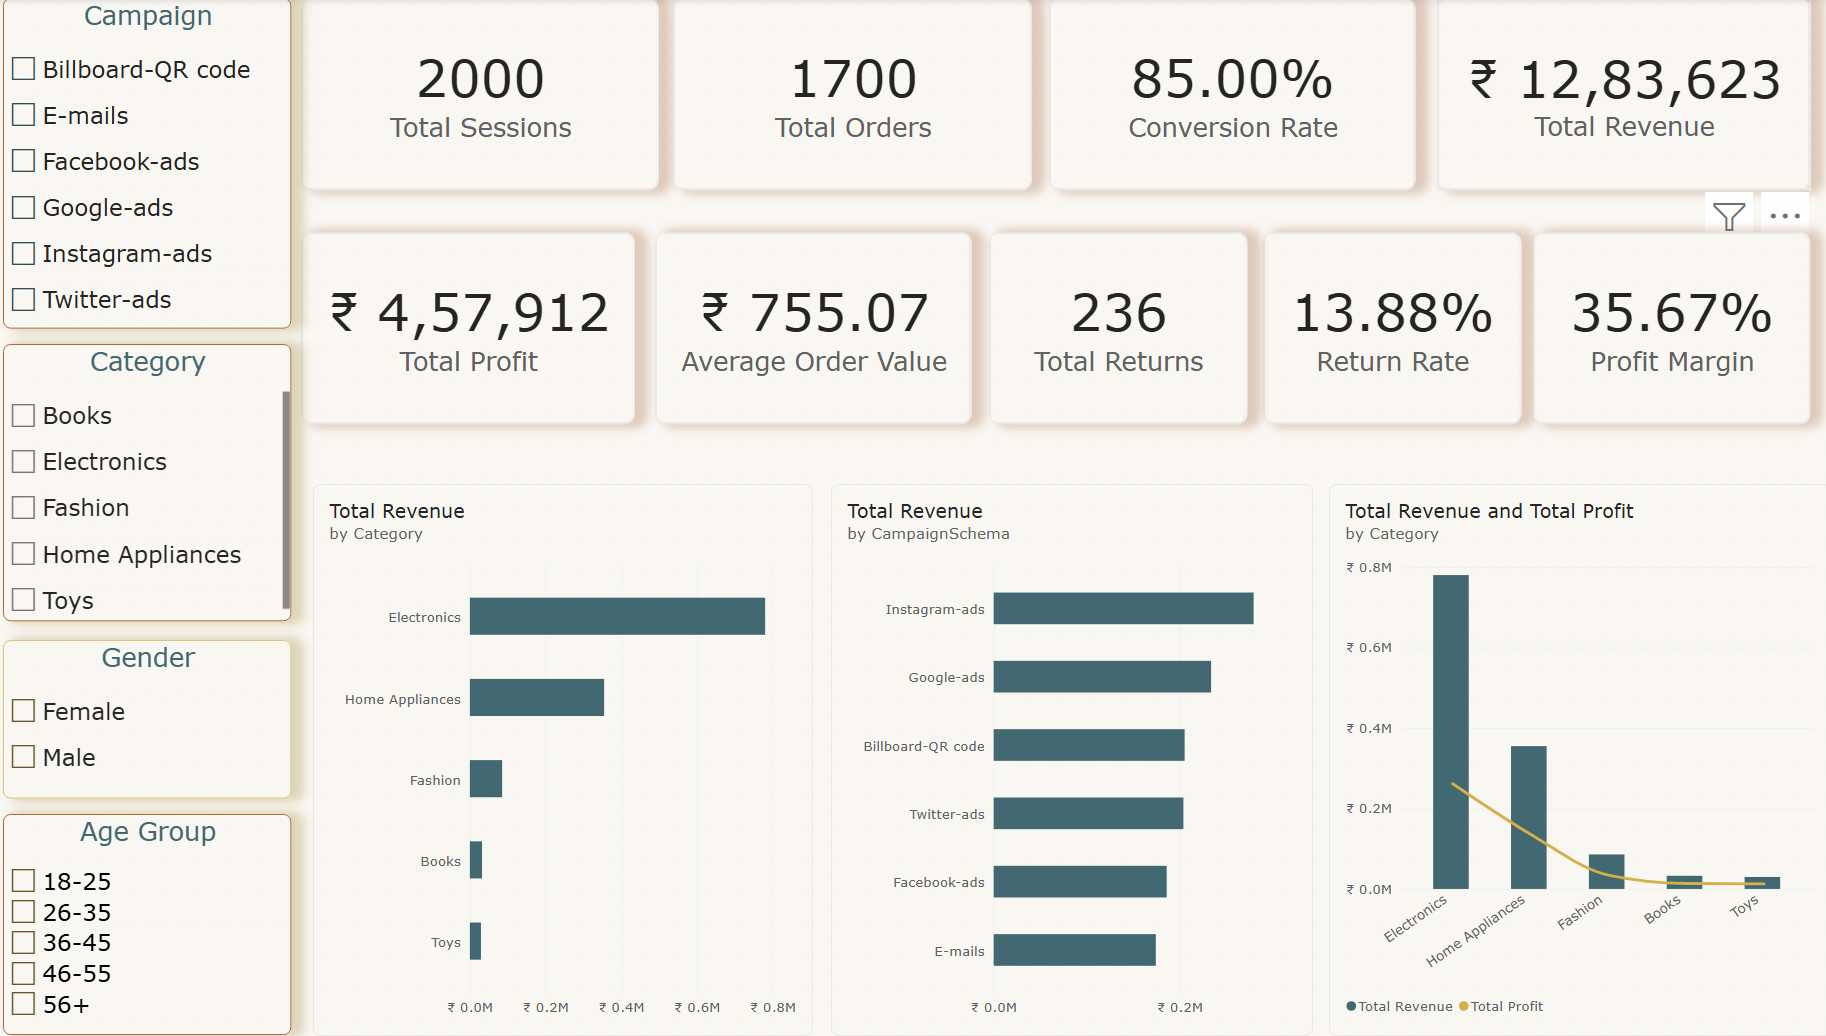

What the dashboard file says about the page in this screenshot:
{"tool":"powerbi","page":{"name":"Executive Overview","canvas":[1920,1080],"ordinal":0},"visuals":[{"type":"cardVisual","fields":{"Data":["CustomerData.Total Sessions"]},"box":[327.9,0,372.5,200],"z":0},{"type":"cardVisual","fields":{"Data":["CustomerData.Total Orders"]},"box":[716.3,0,373.3,200],"z":1000},{"type":"cardVisual","fields":{"Data":["CustomerData.Conversion Rate"]},"box":[1107,0,381.4,200],"z":2000},{"type":"cardVisual","fields":{"Data":["CustomerData.Total Revenue"]},"box":[1511.6,0,388.9,200],"z":3000},{"type":"cardVisual","fields":{"Data":["CustomerData.Total Profit"]},"box":[327.9,244.2,347.7,200],"z":3001},{"type":"cardVisual","fields":{"Data":["CustomerData.Return Rate"]},"box":[1330.2,244.2,268.9,200],"z":3002},{"type":"cardVisual","fields":{"Data":["CustomerData.Profit Margin"]},"box":[1611.6,244.2,288.4,200],"z":3003},{"type":"cardVisual","fields":{"Data":["CustomerData.Average Order Value"]},"box":[697.7,244.2,329.5,200],"z":3004},{"type":"cardVisual","fields":{"Data":["CustomerData.Total Returns"]},"box":[1044.2,244.2,268.9,200],"z":3005},{"type":"clusteredBarChart","fields":{"Category":["CustomerData.Category"],"Y":["CustomerData.Total Revenue"]},"box":[341.3,505.7,520.2,574.3],"z":3006},{"type":"clusteredBarChart","fields":{"Category":["CustomerData.CampaignSchema"],"Y":["CustomerData.Total Revenue"]},"box":[880.2,505.7,501.5,574.3],"z":3007},{"type":"lineClusteredColumnComboChart","fields":{"Category":["CustomerData.Category"],"Y":["CustomerData.Total Revenue"],"Y2":["CustomerData.Total Profit"]},"box":[1398.4,505.7,522.3,574.3],"z":3008},{"type":"slicer","title":"Campaign","fields":{"Values":["CustomerData.CampaignSchema"]},"box":[18.6,0,300,344.2],"z":3009},{"type":"slicer","title":"Category","fields":{"Values":["CustomerData.Category"]},"box":[18.6,360.5,300,288.4],"z":3010},{"type":"slicer","title":"Gender","fields":{"Values":["CustomerData.Gender"]},"box":[18.6,667.4,300,165.1],"z":3011},{"type":"slicer","title":"Age Group","fields":{"Values":["CustomerData.AgeGroup"]},"box":[18.6,848.8,300,230.2],"z":3012}]}

Visuals, with their boxes on the page's 1920x1080 design canvas (x1, y1, x2, y2). These are canvas units, not pixel positions in the 1826x1036 screenshot, which may show the page scaled, cropped or inside an application window:
cardVisual - CustomerData.Total Sessions: [left=328, top=0, right=700, bottom=200]
cardVisual - CustomerData.Total Orders: [left=716, top=0, right=1090, bottom=200]
cardVisual - CustomerData.Conversion Rate: [left=1107, top=0, right=1488, bottom=200]
cardVisual - CustomerData.Total Revenue: [left=1512, top=0, right=1900, bottom=200]
cardVisual - CustomerData.Total Profit: [left=328, top=244, right=676, bottom=444]
cardVisual - CustomerData.Return Rate: [left=1330, top=244, right=1599, bottom=444]
cardVisual - CustomerData.Profit Margin: [left=1612, top=244, right=1900, bottom=444]
cardVisual - CustomerData.Average Order Value: [left=698, top=244, right=1027, bottom=444]
cardVisual - CustomerData.Total Returns: [left=1044, top=244, right=1313, bottom=444]
clusteredBarChart - CustomerData.Category x CustomerData.Total Revenue: [left=341, top=506, right=862, bottom=1080]
clusteredBarChart - CustomerData.CampaignSchema x CustomerData.Total Revenue: [left=880, top=506, right=1382, bottom=1080]
lineClusteredColumnComboChart - CustomerData.Category x CustomerData.Total Revenue: [left=1398, top=506, right=1921, bottom=1080]
"Campaign" slicer: [left=19, top=0, right=319, bottom=344]
"Category" slicer: [left=19, top=360, right=319, bottom=649]
"Gender" slicer: [left=19, top=667, right=319, bottom=832]
"Age Group" slicer: [left=19, top=849, right=319, bottom=1079]
